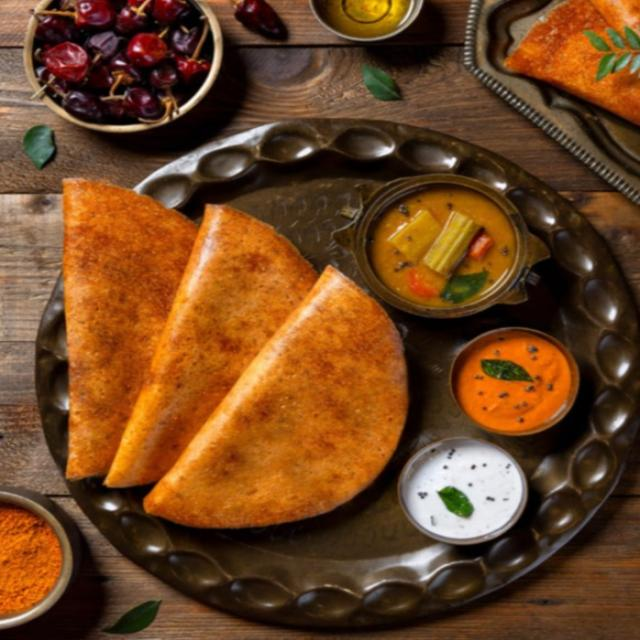DOSA: (68, 187, 408, 526)
RED CHUTNEY: (456, 334, 572, 428)
SAMBAR: (370, 188, 511, 304)
WHITE CHUTNEY: (405, 445, 521, 538)
